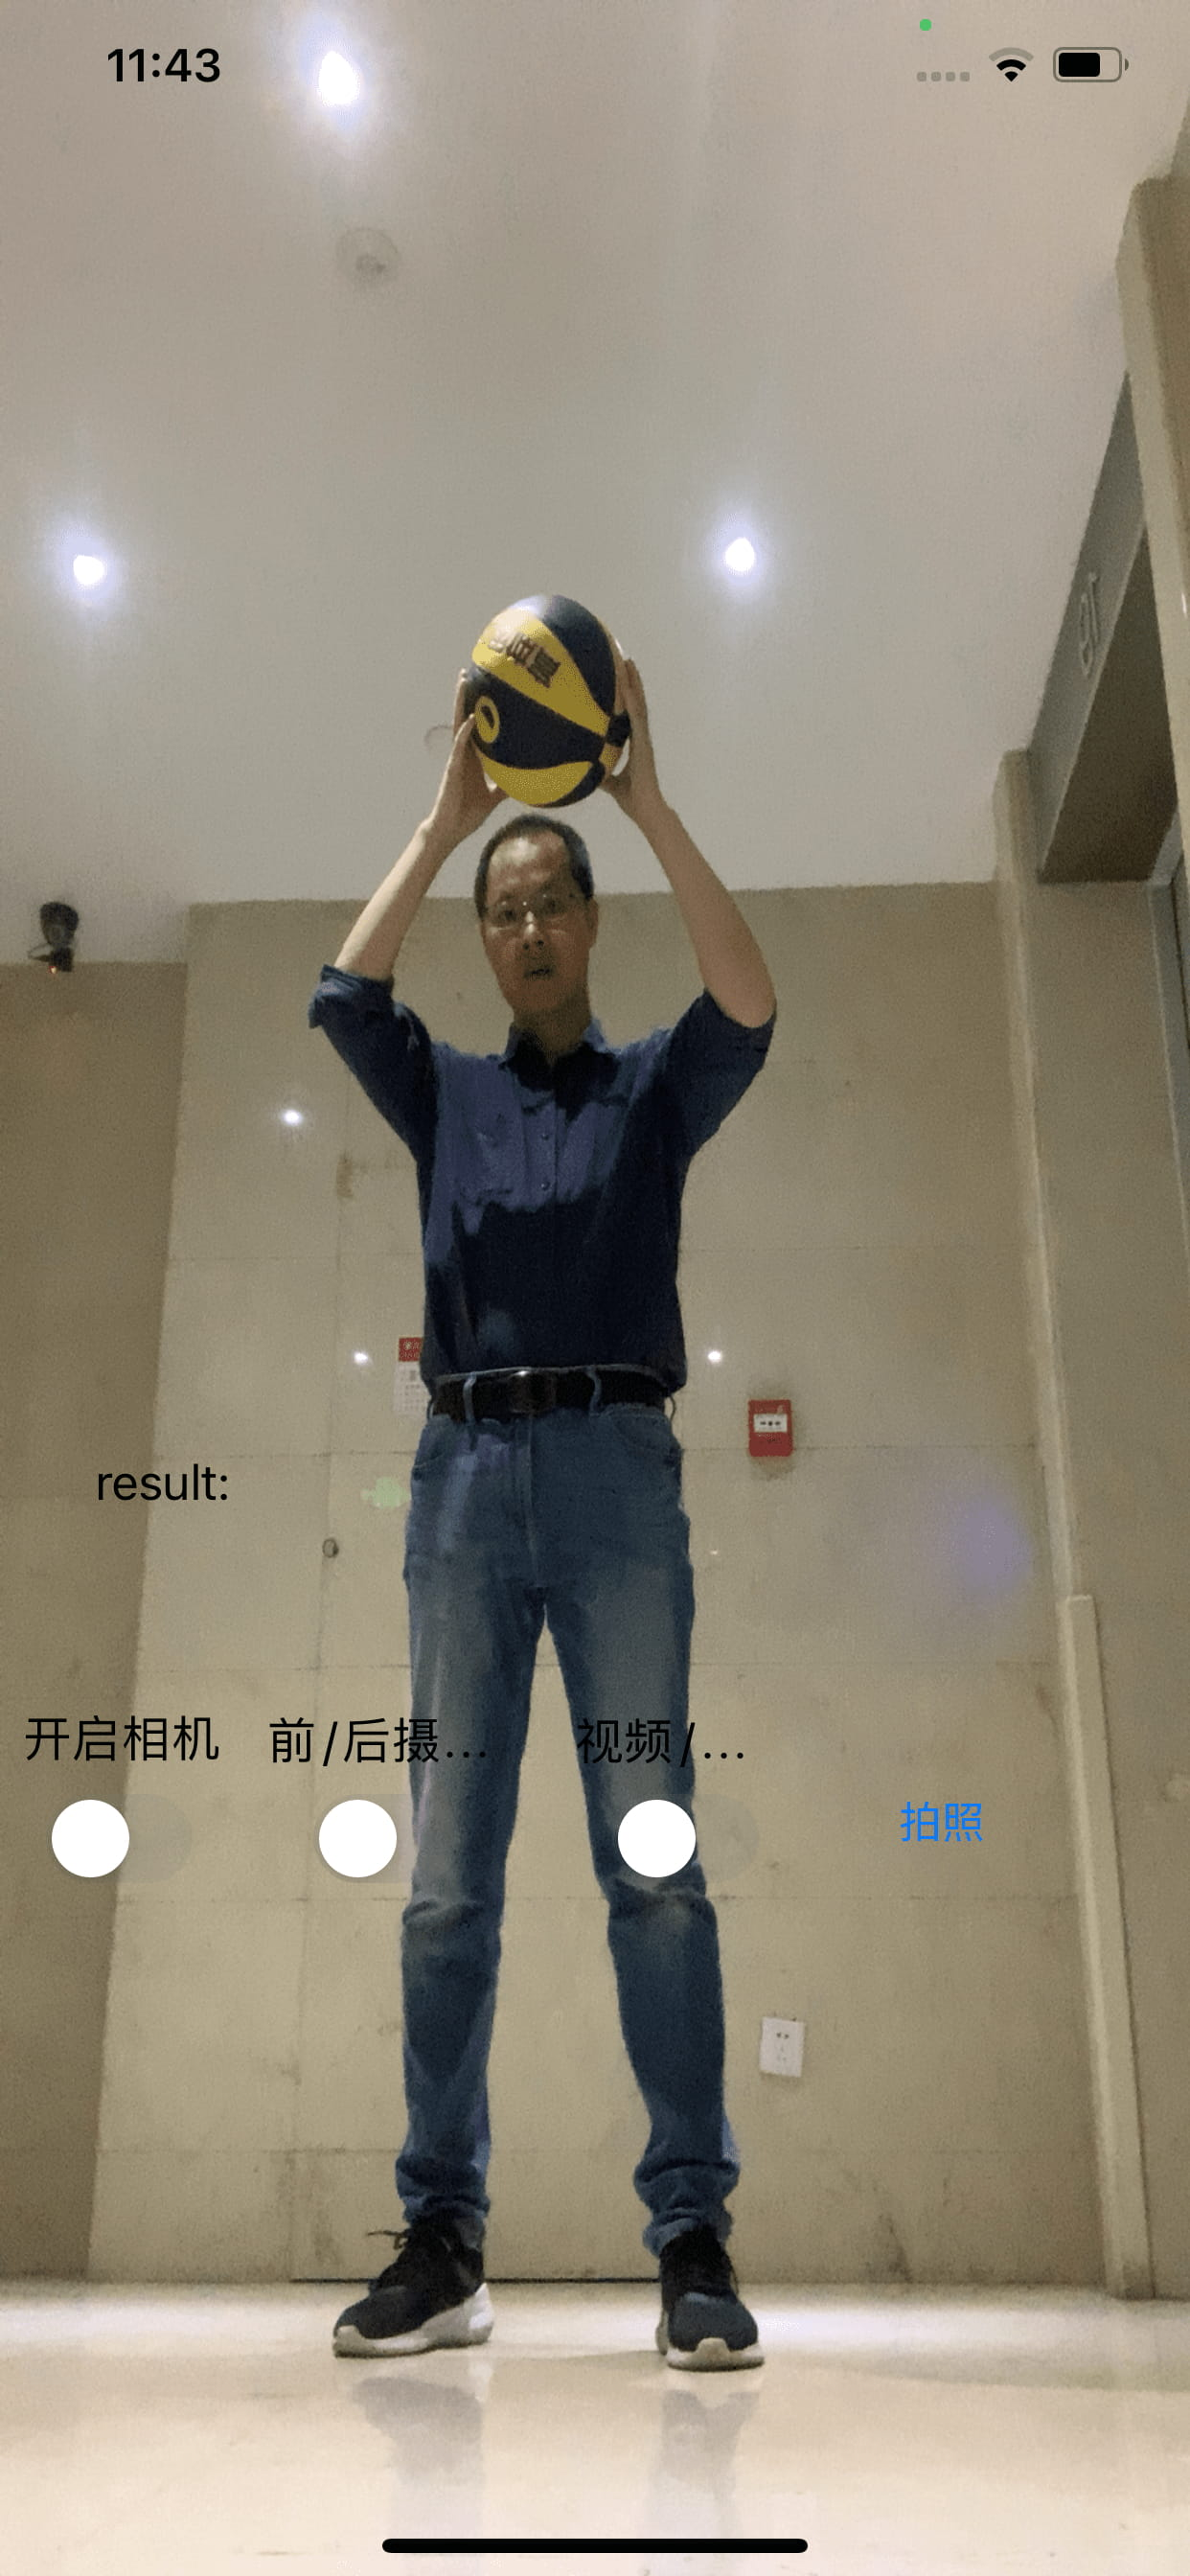ball: (464, 591, 641, 805)
